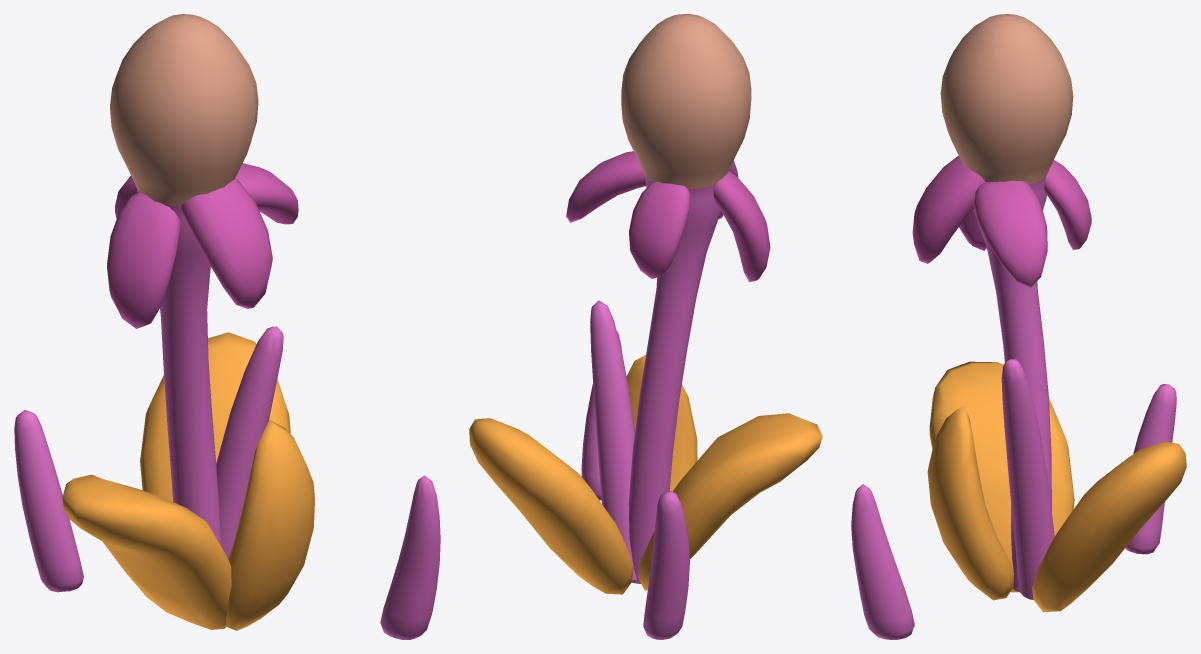
The model's file is ExoticGrass_A_02.fbx.
3 views of the same model, side by side, from view 1: azimuth 30°, elevation 25°; view 2: azimuth 150°, elevation 25°; view 3: azimuth 270°, elevation 25° (orthographic). The views are drawn at different scales.
Visible parts, largest first — view 1: ExoticGrass_A_02_LOD0; view 2: ExoticGrass_A_02_LOD0; view 3: ExoticGrass_A_02_LOD0.
Part boxes in pixels (x1,y1,x2,y2): ExoticGrass_A_02_LOD0: (14, 14, 440, 639); ExoticGrass_A_02_LOD0: (469, 14, 822, 639); ExoticGrass_A_02_LOD0: (851, 14, 1186, 639).
Size of what is drawn, in the model's own units: 437 by 843 by 456.
